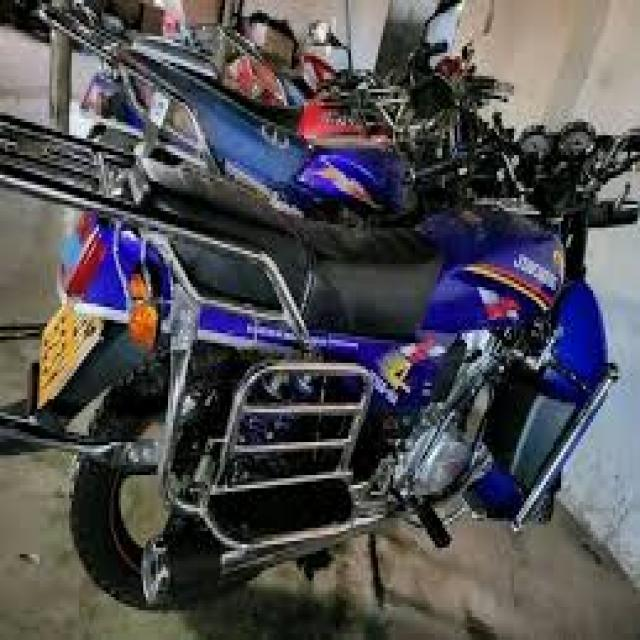bodaboda: (0, 89, 635, 630)
